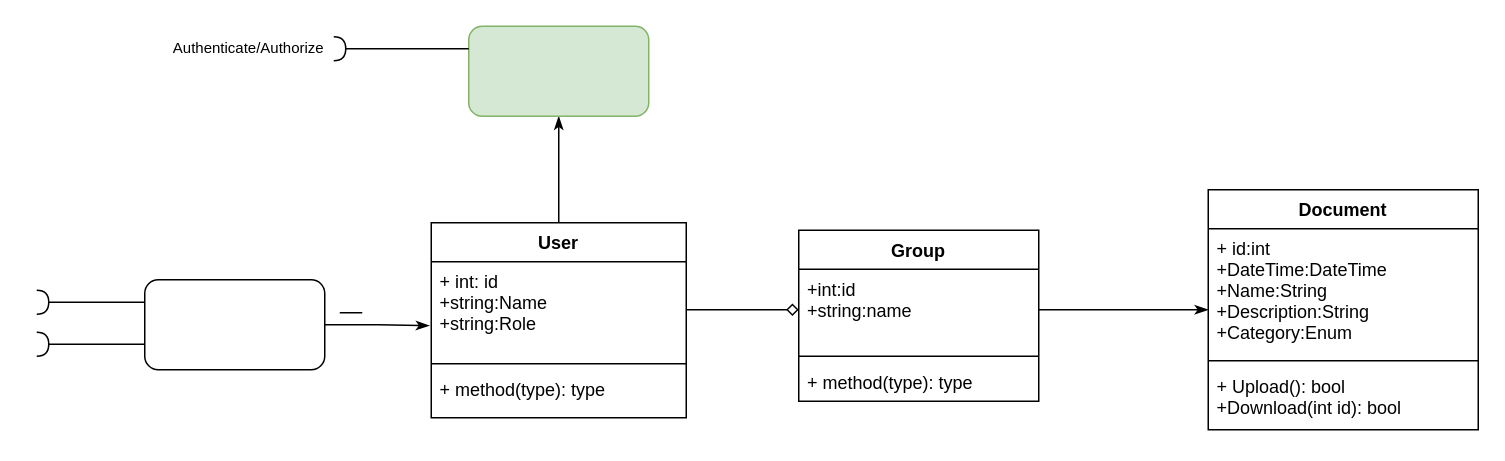
Some shapes in this 1505 by 461 pixel diagram are drawn without their labels. The centre of each missing label's shape, as x and y in pixels:
Auth: [558,70]
File API: [234,324]
